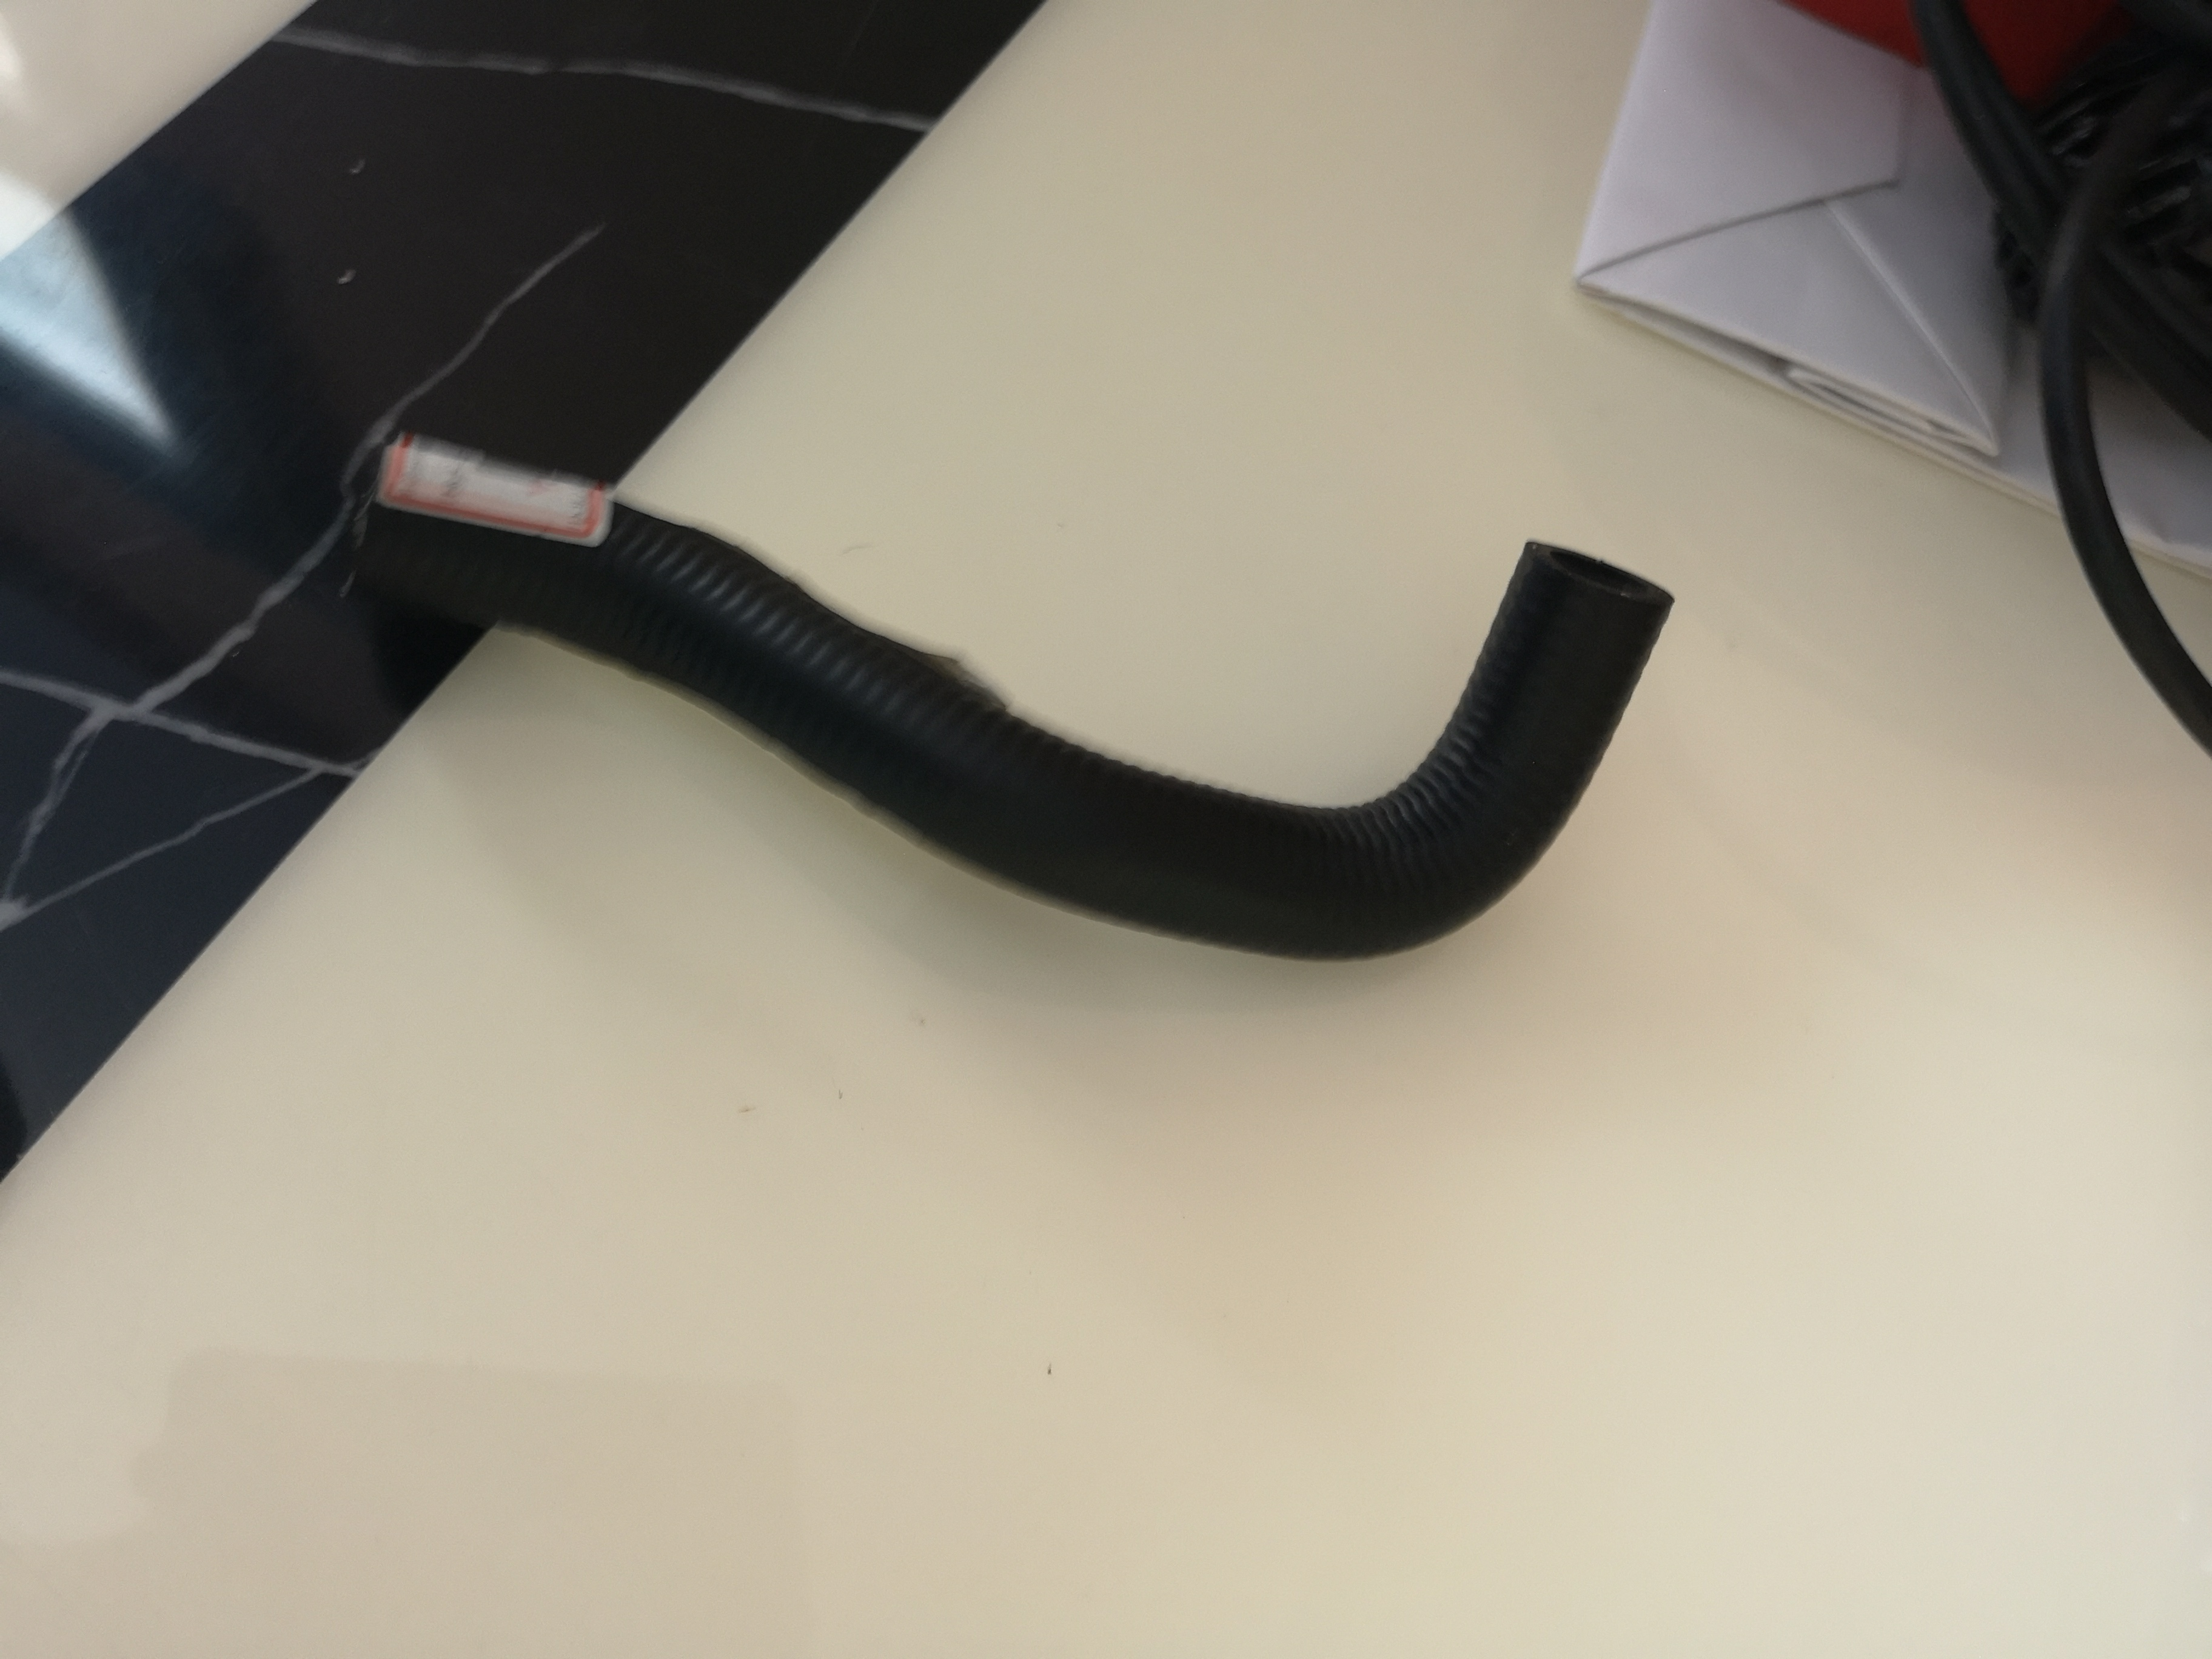ท่อยางน้ำมันเลี้ยงเทอร์โบ: (326, 376, 1700, 1042)
